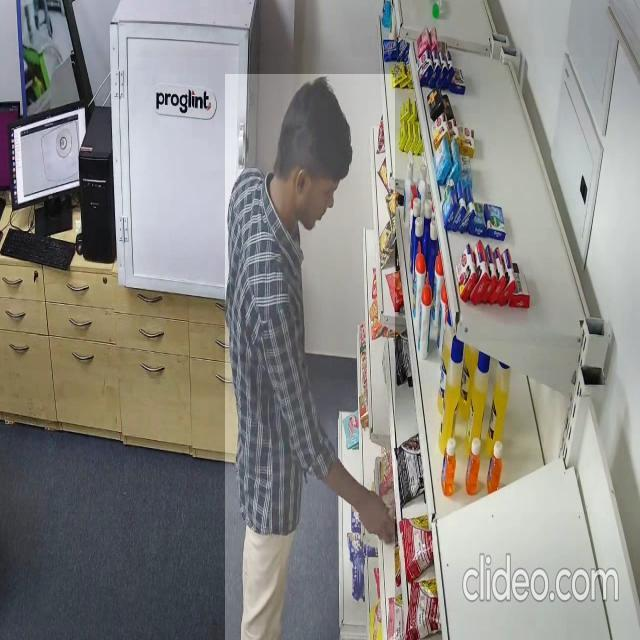normal: (225, 74, 395, 640)
